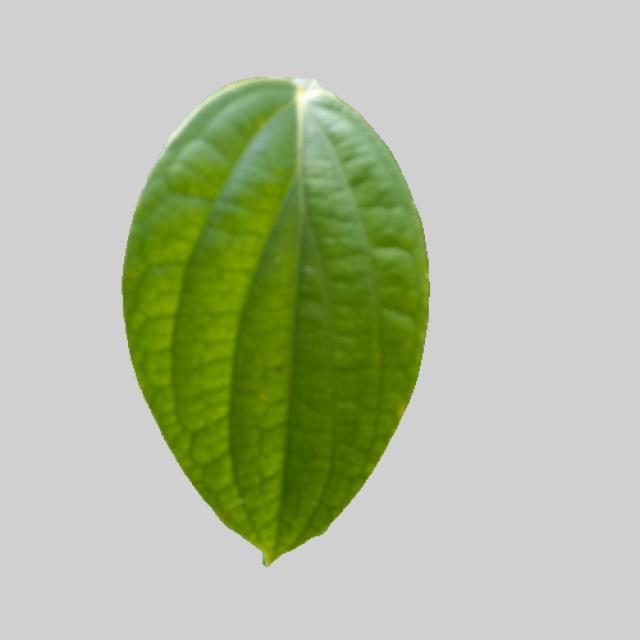healthy: (115, 74, 440, 576)
